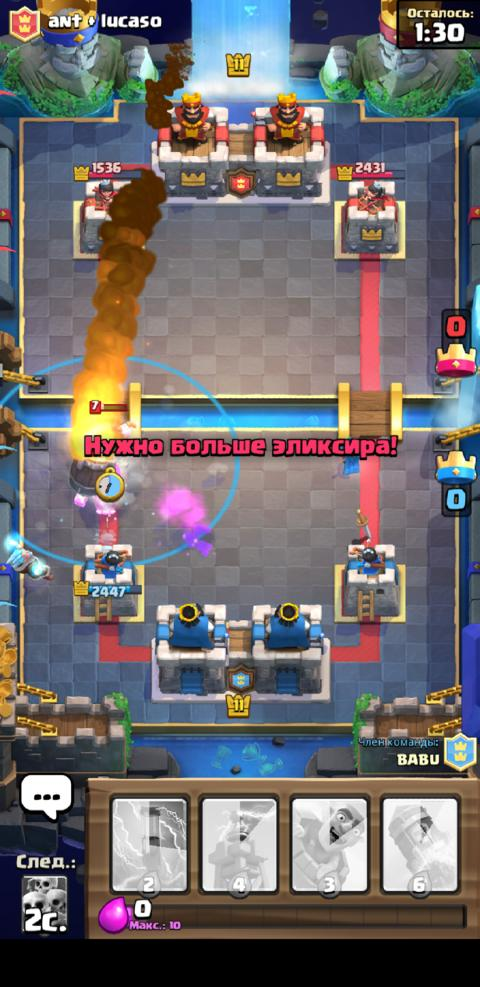ally_ice_wizard: (1, 530, 53, 581)
ally_tornado: (0, 353, 239, 569)
enemy_hog_rider: (71, 461, 120, 516)
enemy_rocket: (67, 444, 115, 496)
enemy_witch: (83, 398, 137, 437)
